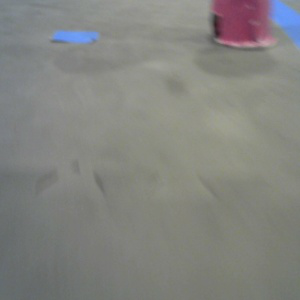right: (210, 1, 277, 49)
